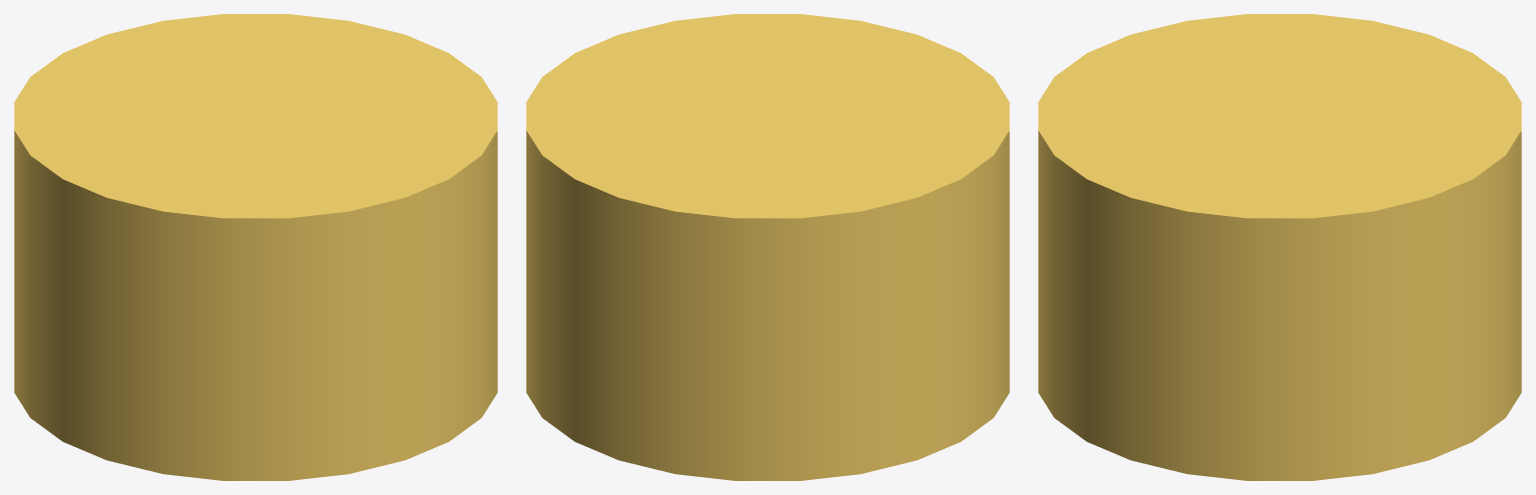
File: SM_FW01_Coins_01.fbx
The picture shows the model from 3 angles, left to right: view 1: azimuth 30°, elevation 25°; view 2: azimuth 150°, elevation 25°; view 3: azimuth 270°, elevation 25°; orthographic projection.
Parts seen in each view (by area): view 1: SM_FW01_Coins_01_LOD0; view 2: SM_FW01_Coins_01_LOD0; view 3: SM_FW01_Coins_01_LOD0.
Part boxes in pixels (x1,y1,x2,y2): SM_FW01_Coins_01_LOD0: [14, 14, 497, 480]; SM_FW01_Coins_01_LOD0: [526, 14, 1009, 480]; SM_FW01_Coins_01_LOD0: [1038, 14, 1521, 480].
Size of what is drawn, in the model's own units: 0.109 by 0.0653 by 0.109.
